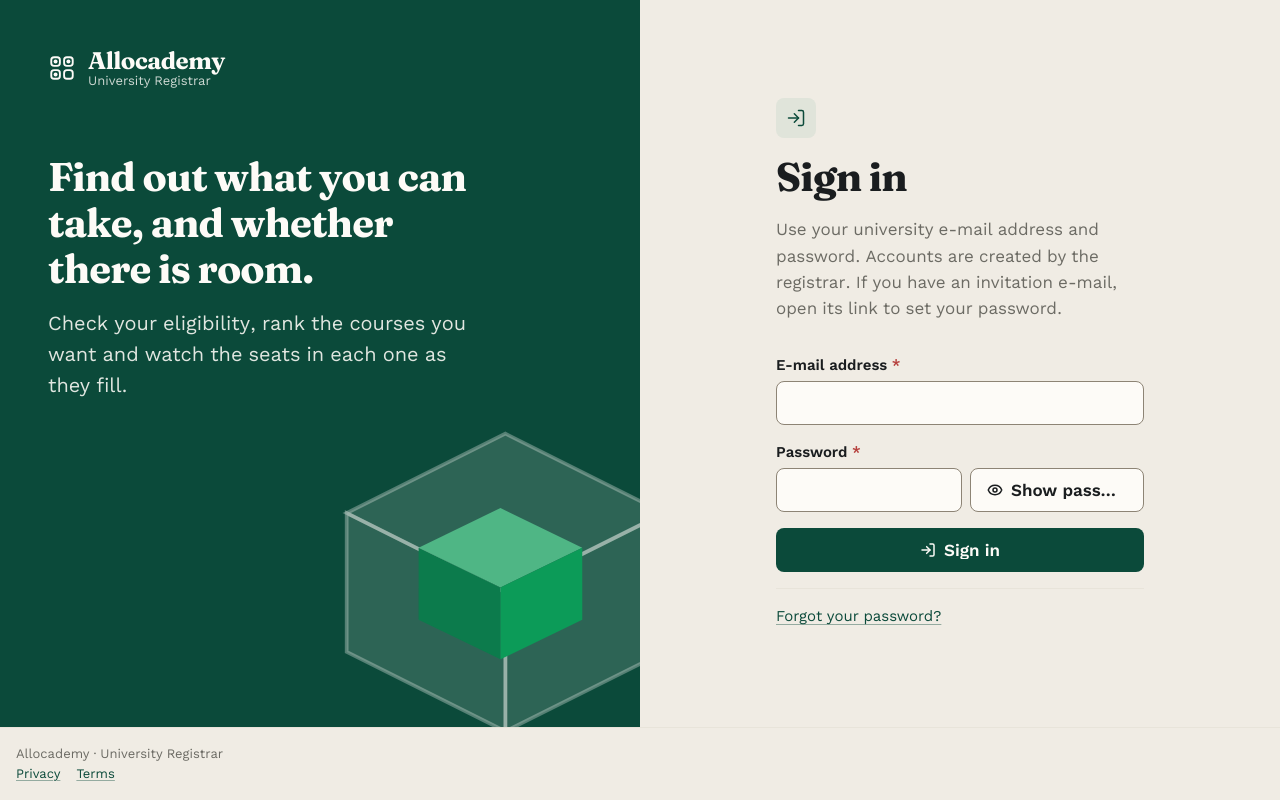
Test: LoginPage submission › sends a signed-in ADMIN to /admin/dashboard
This screenshot has width=1280, height=800.
Expected: the heading "Sign in" is shown, [776,152,907,201]
Type "admin@university.edu" into the field labelled "E-mail address" at (960, 403), box [776,381,1144,425]
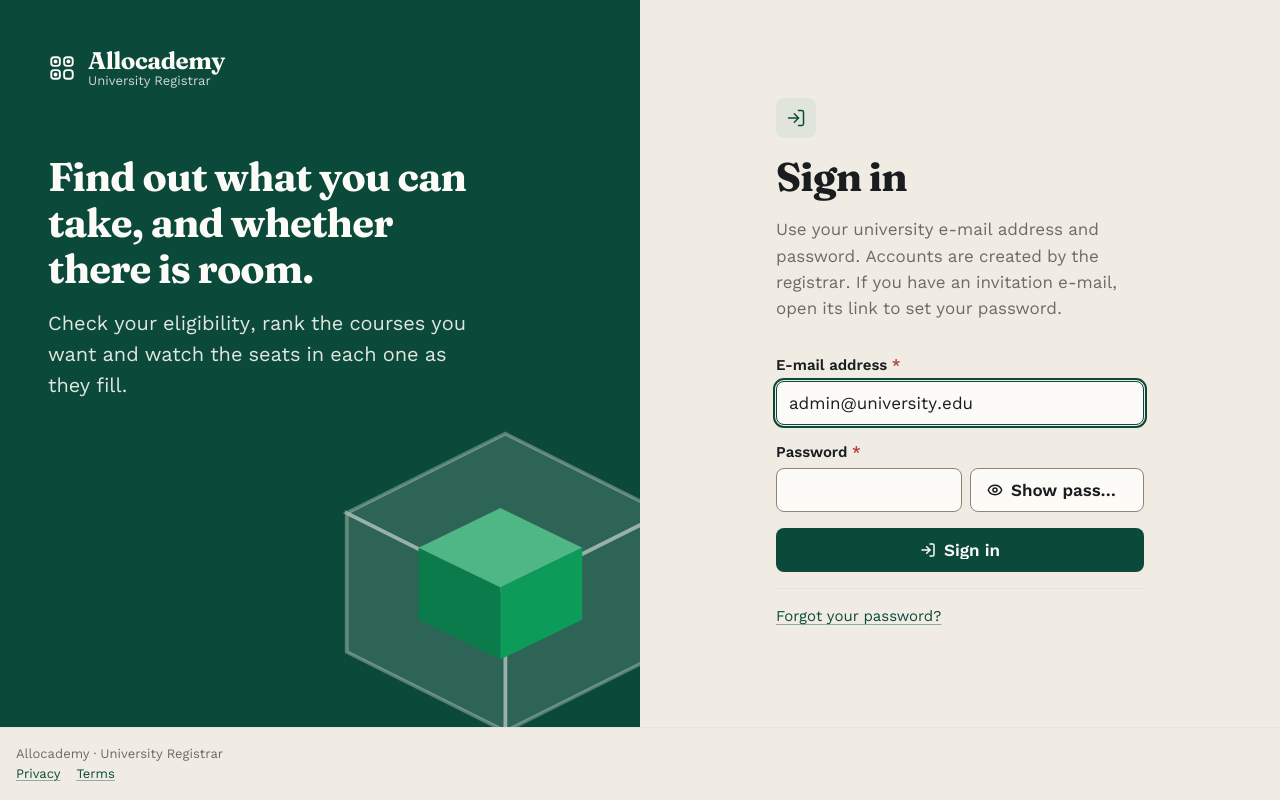
Type "Password@123" into the password field labelled "Password" at (869, 490), box [776,468,962,512]
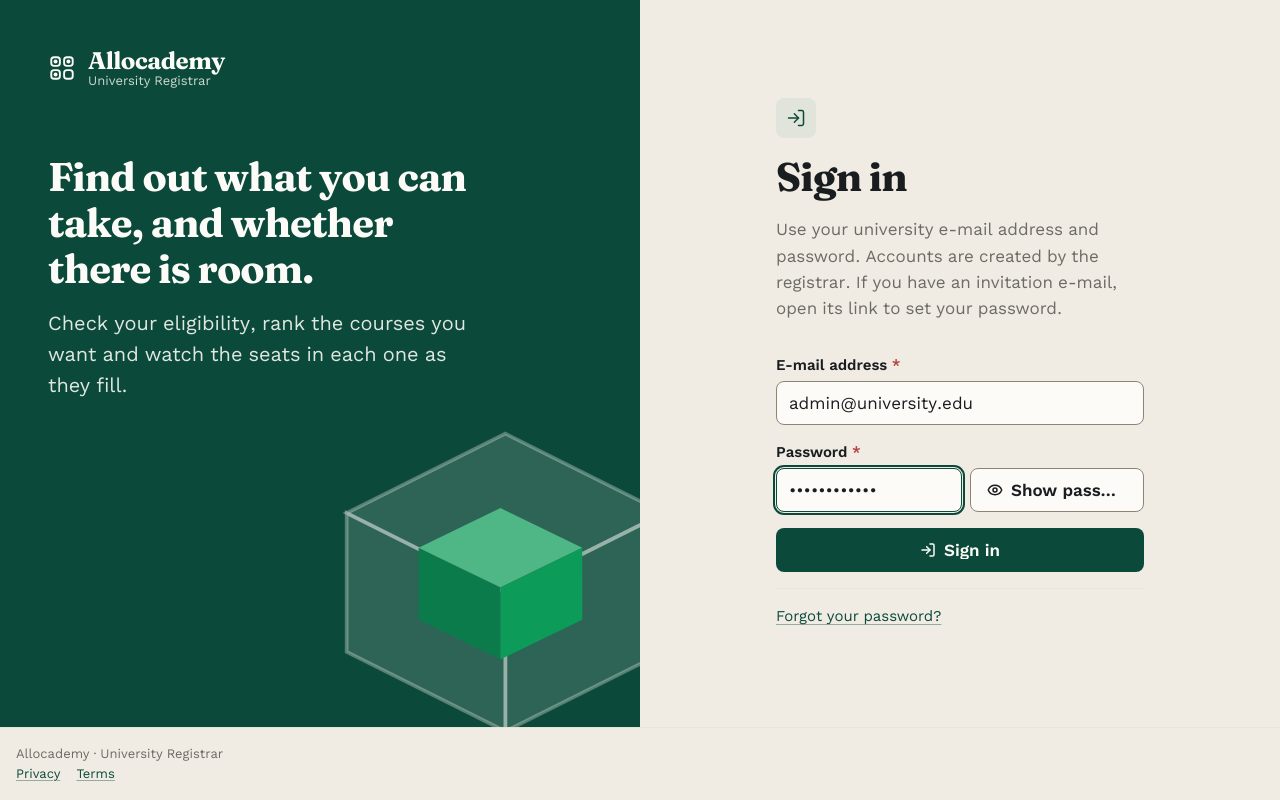
Click the button "Sign in" at (960, 550), box [776,528,1144,572]
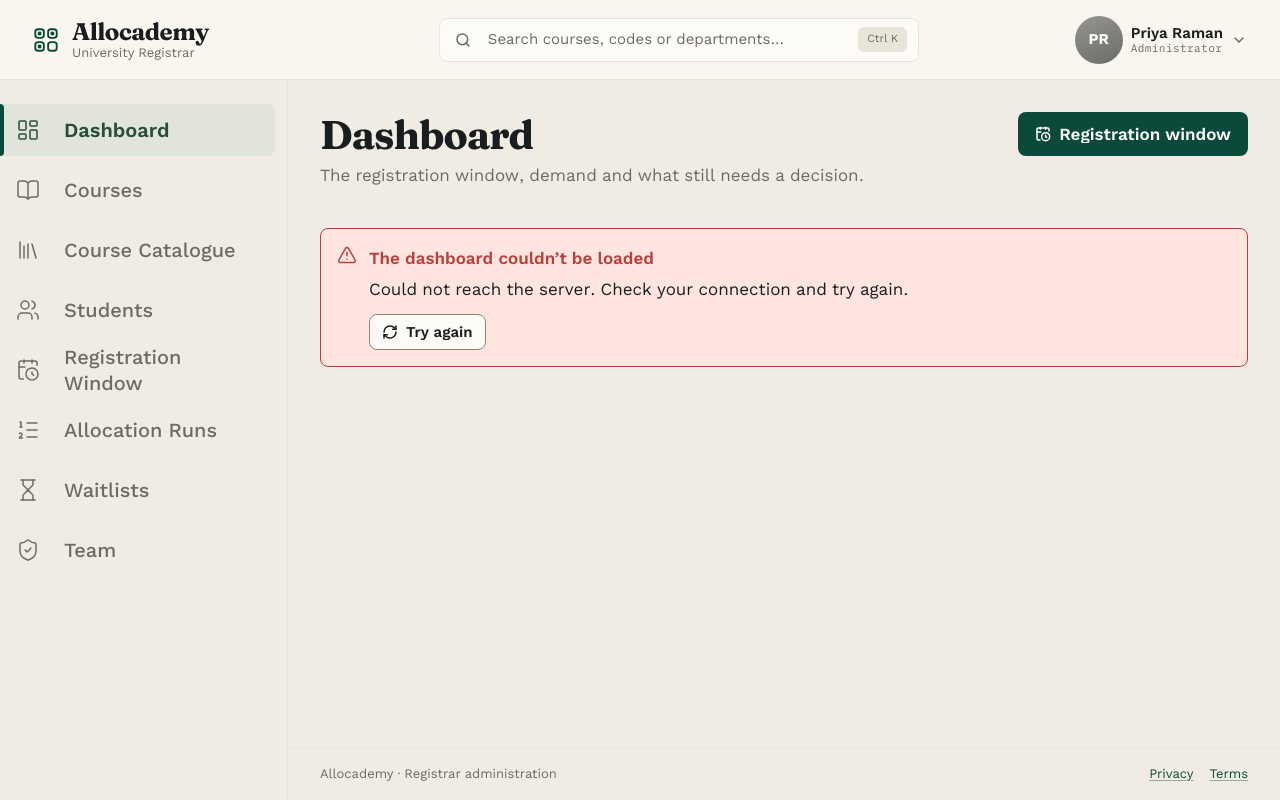
Expected: the heading "Dashboard" is shown, [320,110,533,159]
